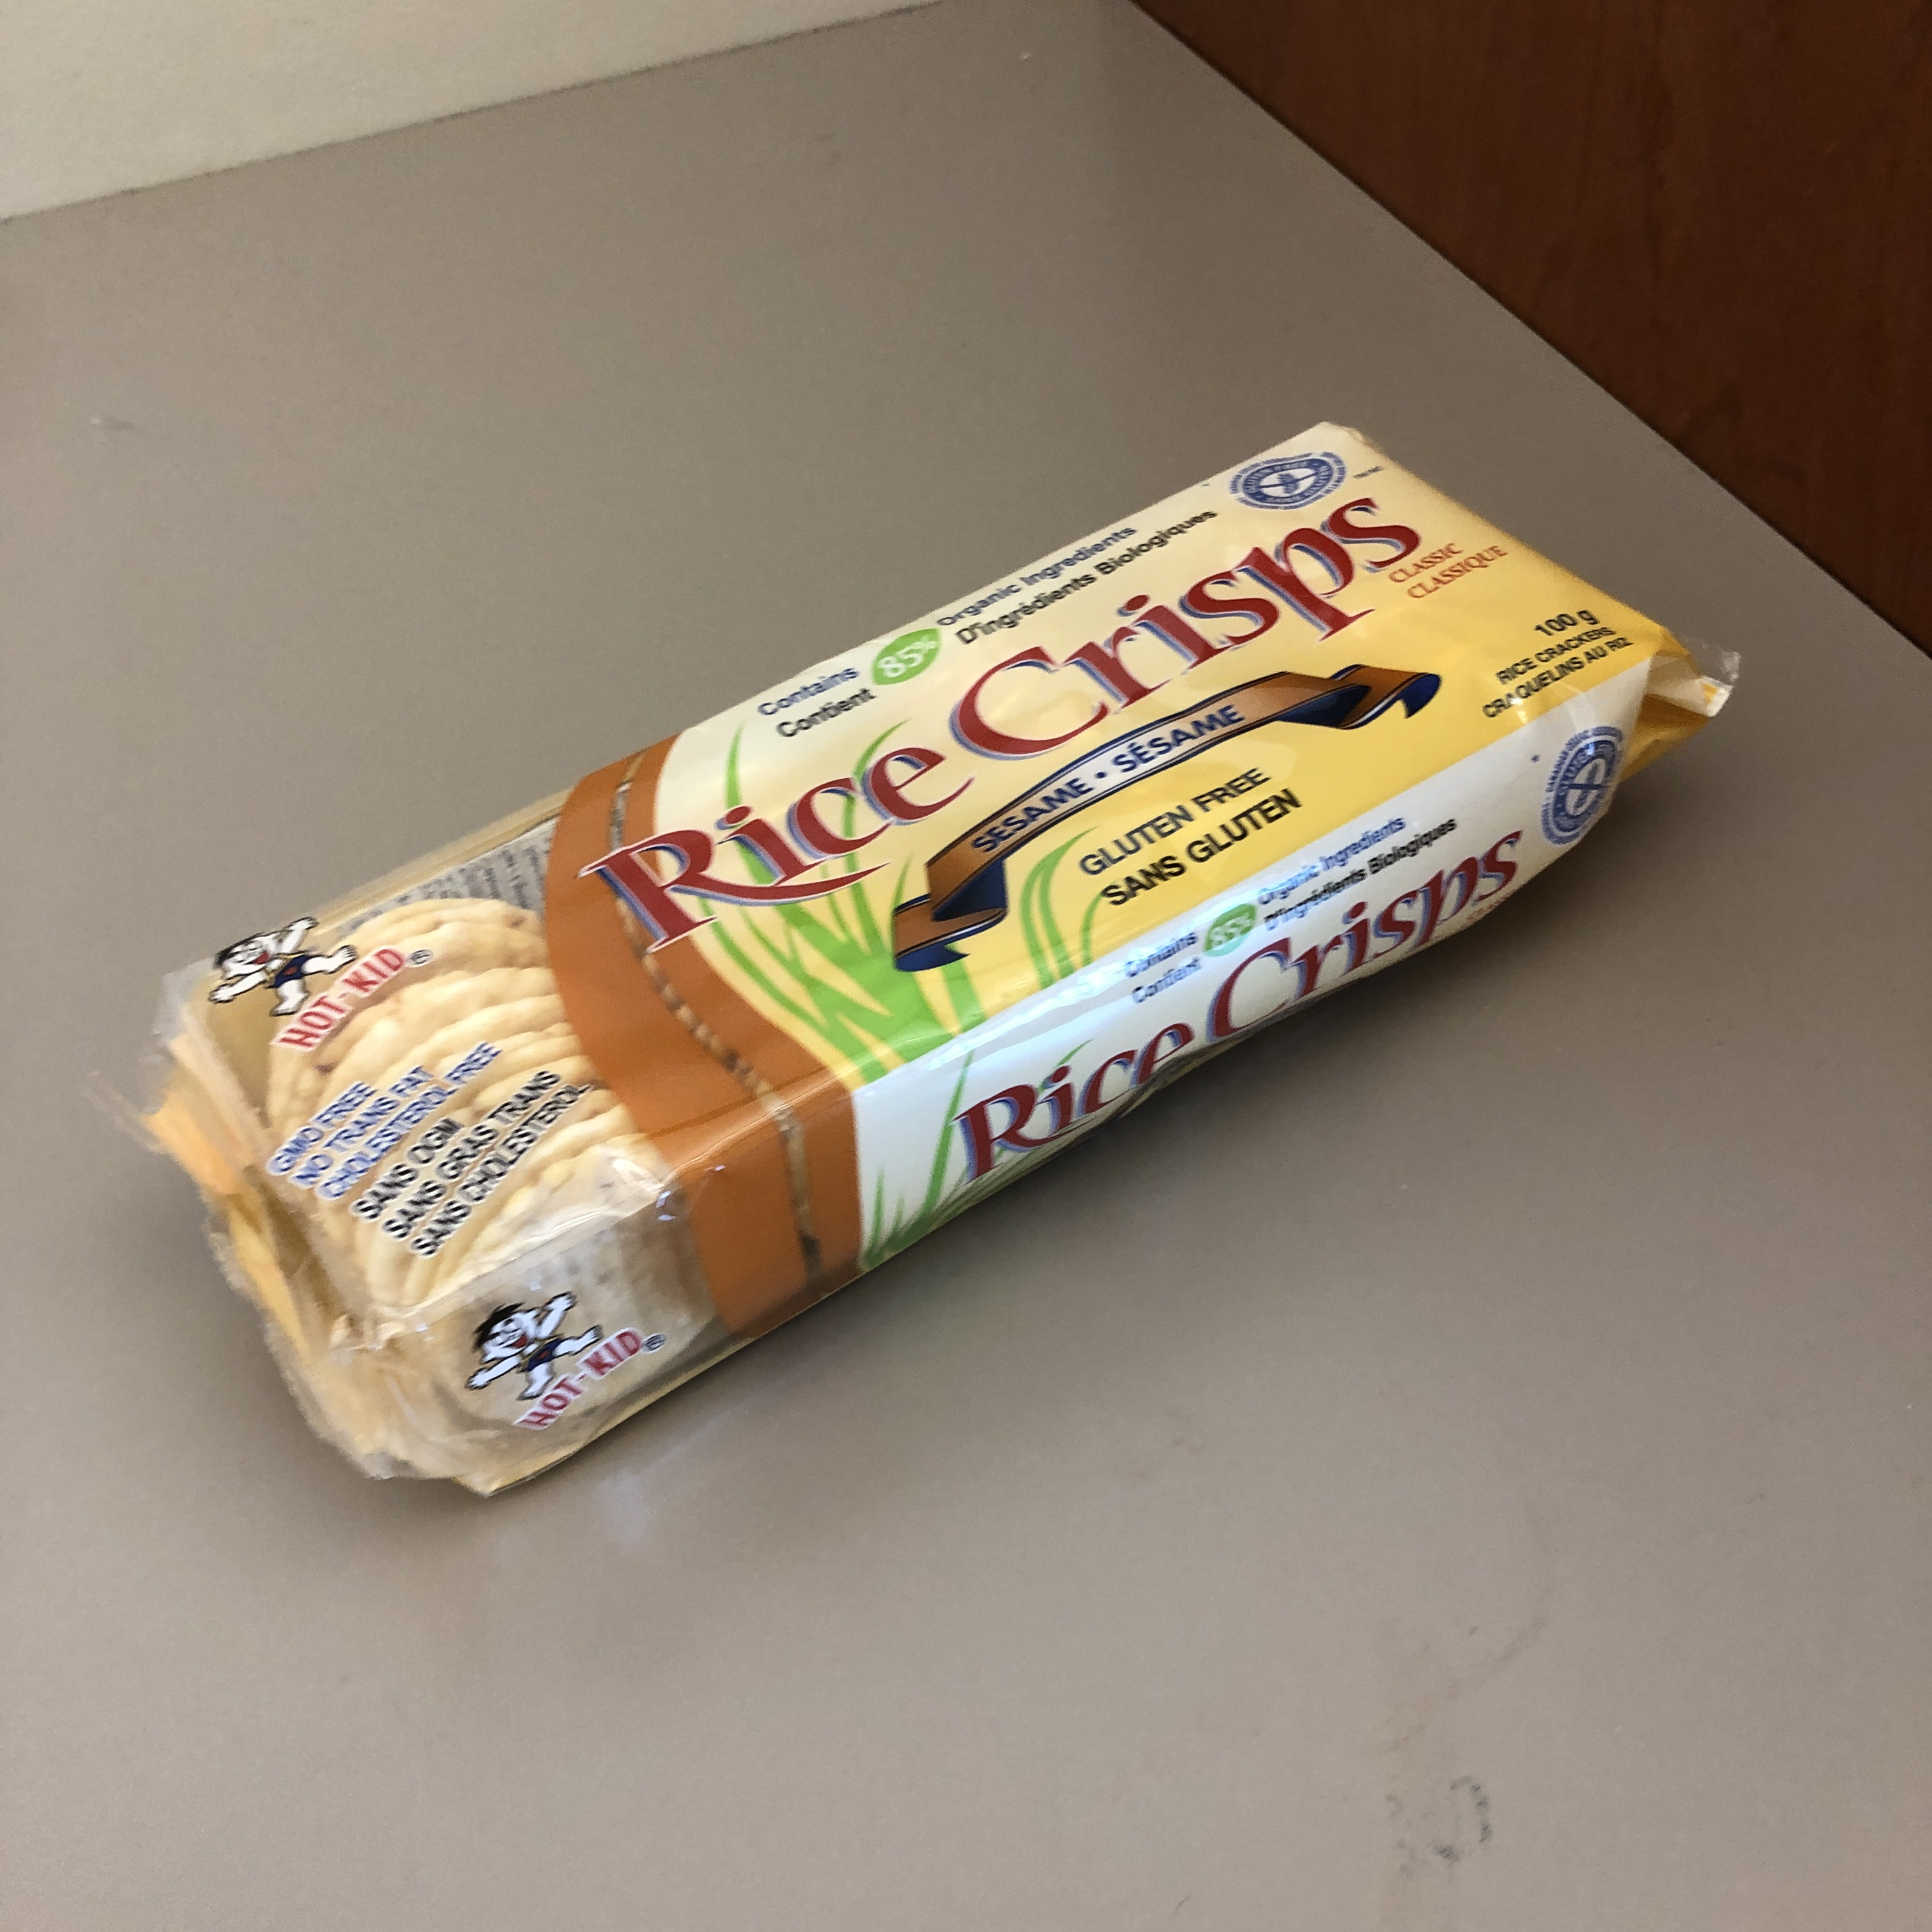hot_kid_rice_crisps_sesame: (466, 250, 1324, 1675)
